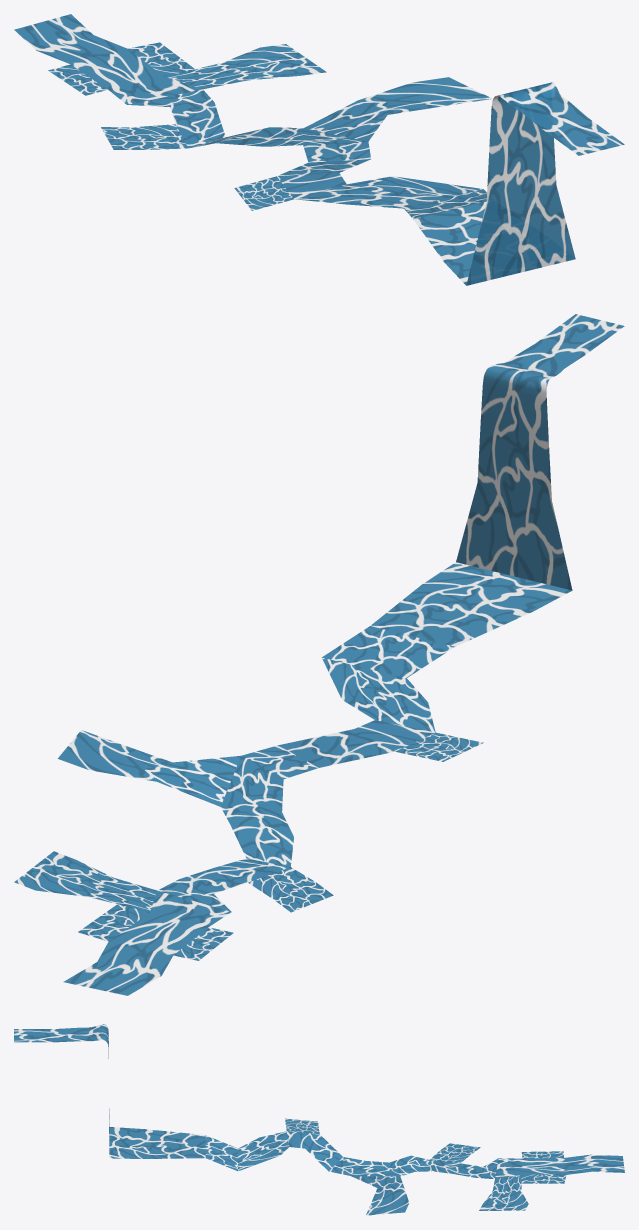
Rendered from RíoPorPartes4.fbx.
3 renders of one model, top to bottom at view 1: azimuth 30°, elevation 25°; view 2: azimuth 150°, elevation 25°; view 3: azimuth 270°, elevation 25°, orthographic. The views are drawn at different scales.
Parts seen in each view (by area): view 1: Río, Río.010, Río.003, Río.002, Río.009, Río.006, Río.001, Río.008, Río.005, Río.007, Río.004, Río.011 (+1 smaller); view 2: Río, Río.001, Río.002, Río.010, Río.006, Río.003, Río.009, Río.005, Río.008, Río.007, Río.004, Río.011 (+1 smaller); view 3: Río.001, Río.010, Río.002, Río.006, Río, Río.003, Río.009, Río.005, Río.008, Río.007, Río.004, Río.011 (+1 smaller).
Part boxes in pixels (bbox=[...]): Río: bbox=[466, 82, 624, 285]; Río.010: bbox=[14, 14, 201, 104]; Río.003: bbox=[304, 77, 492, 141]; Río.002: bbox=[295, 176, 486, 219]; Río.009: bbox=[165, 44, 326, 89]; Río.006: bbox=[190, 127, 370, 162]; Río.001: bbox=[413, 201, 486, 285]; Río.008: bbox=[127, 89, 225, 148]; Río.005: bbox=[277, 159, 370, 199]; Río.007: bbox=[101, 124, 187, 149]; Río.004: bbox=[234, 176, 293, 210]; Río.011: bbox=[128, 42, 195, 76]; Río: bbox=[456, 314, 624, 590]; Río.001: bbox=[370, 562, 571, 646]; Río.002: bbox=[321, 626, 454, 732]; Río.010: bbox=[63, 890, 231, 995]; Río.006: bbox=[221, 745, 318, 866]; Río.003: bbox=[57, 730, 240, 806]; Río.009: bbox=[14, 851, 156, 912]; Río.005: bbox=[278, 720, 435, 767]; Río.008: bbox=[157, 858, 290, 911]; Río.007: bbox=[248, 867, 333, 912]; Río.004: bbox=[395, 732, 483, 761]; Río.011: bbox=[78, 903, 149, 941]; Río.001: bbox=[109, 1127, 205, 1158]; Río.010: bbox=[495, 1154, 624, 1178]; Río.002: bbox=[205, 1131, 289, 1171]; Río.006: bbox=[329, 1155, 431, 1176]; Río: bbox=[14, 1024, 109, 1134]; Río.003: bbox=[351, 1176, 409, 1215]; Río.009: bbox=[479, 1174, 528, 1210]; Río.005: bbox=[286, 1131, 342, 1171]; Río.008: bbox=[429, 1158, 498, 1179]; Río.007: bbox=[430, 1143, 480, 1162]; Río.004: bbox=[285, 1118, 319, 1133]; Río.011: bbox=[520, 1174, 566, 1183].
Size of the model in its own units: 4189 by 3186 by 12128.
